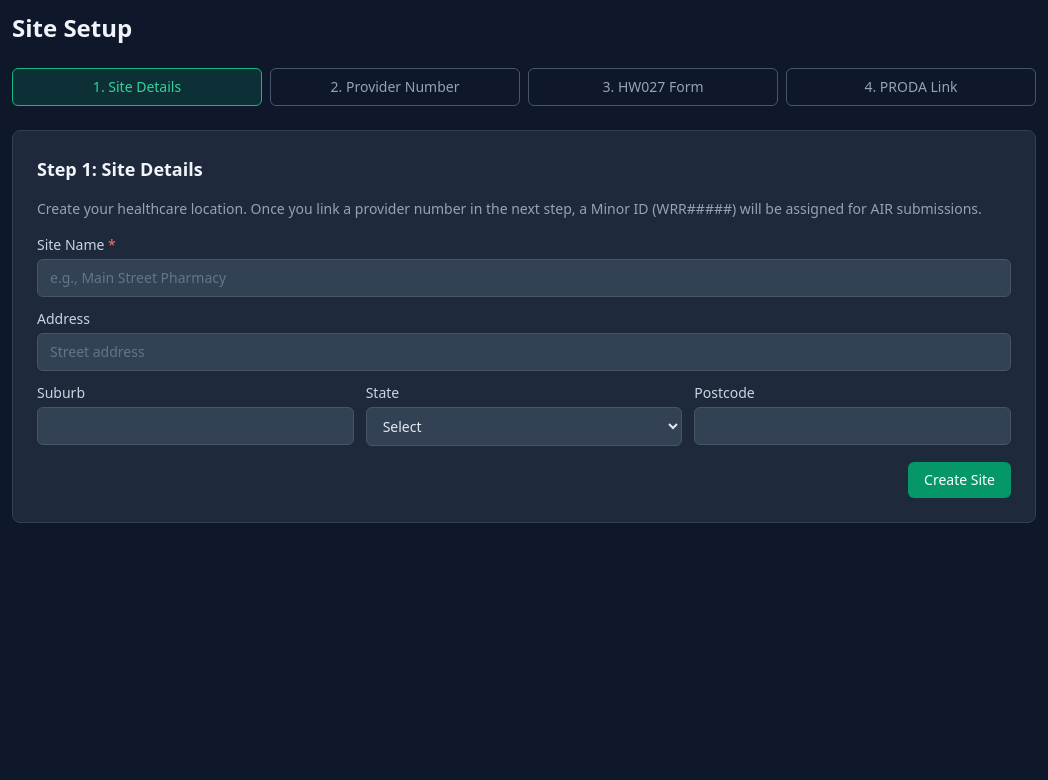
Scenario: SetupWizard › validates provider number length
Click the button "2. Provider Number".
click(395, 87)  # box top-left (270, 68), bottom-right (520, 106)
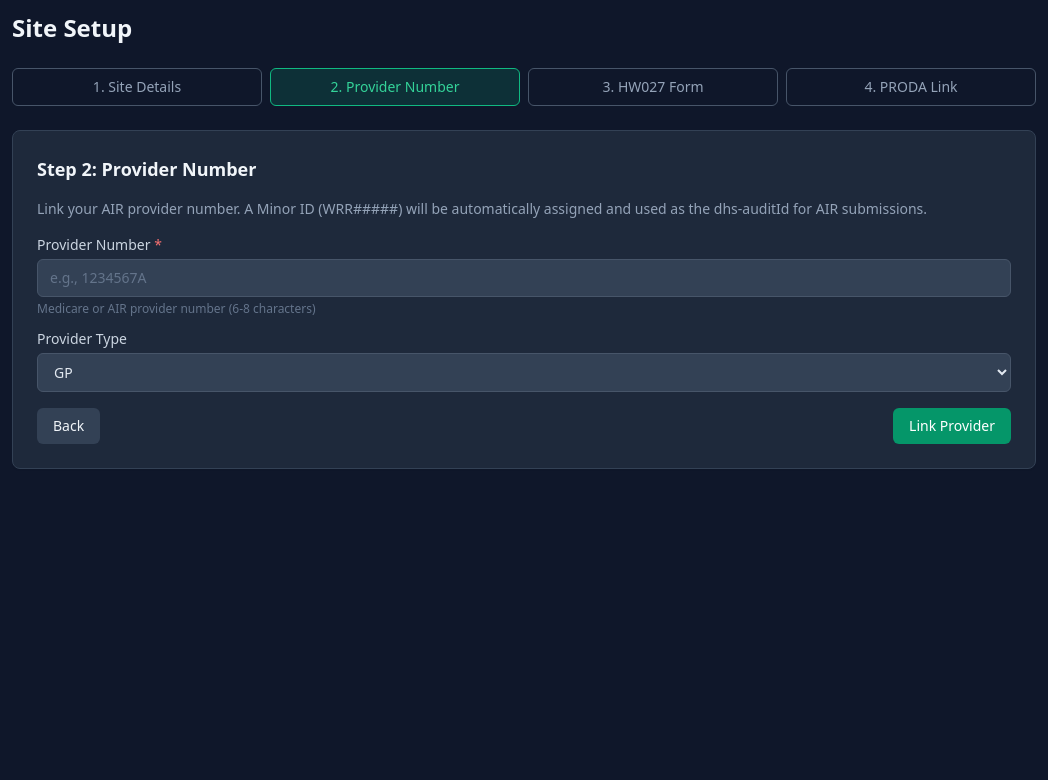
Type "123" into the field with test id "provider-number-input".
click(524, 278); type("123")  # box top-left (37, 259), bottom-right (1011, 297)
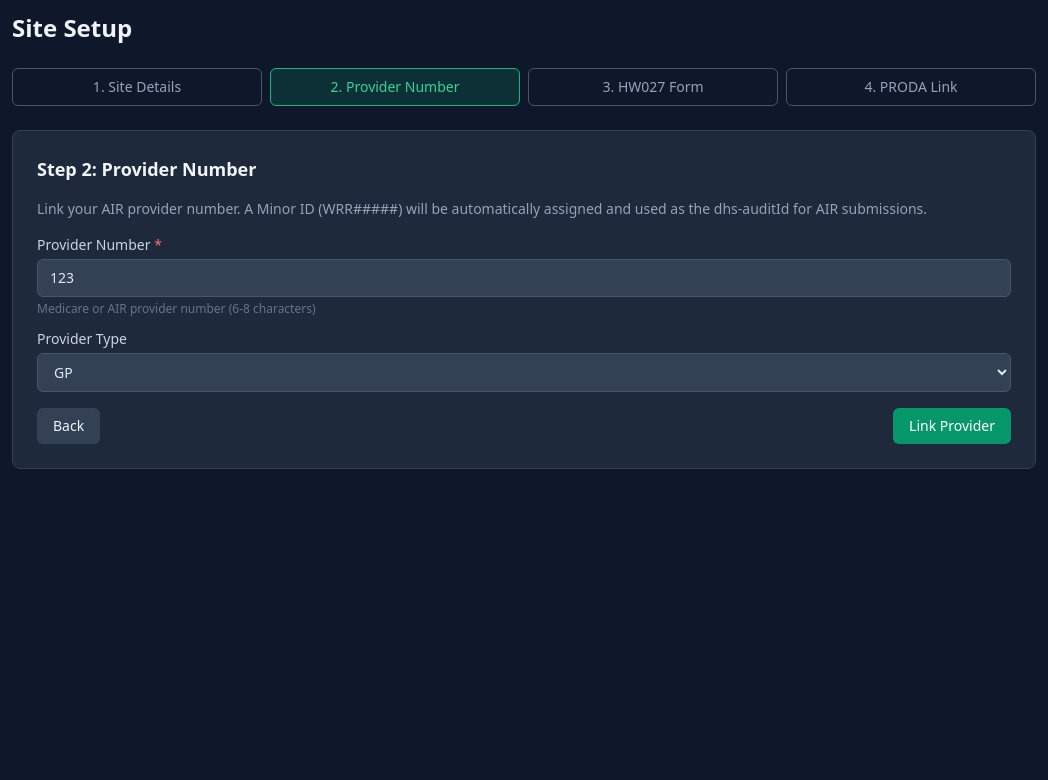
Click the button "Link Provider".
click(952, 426)  # box top-left (893, 408), bottom-right (1011, 444)
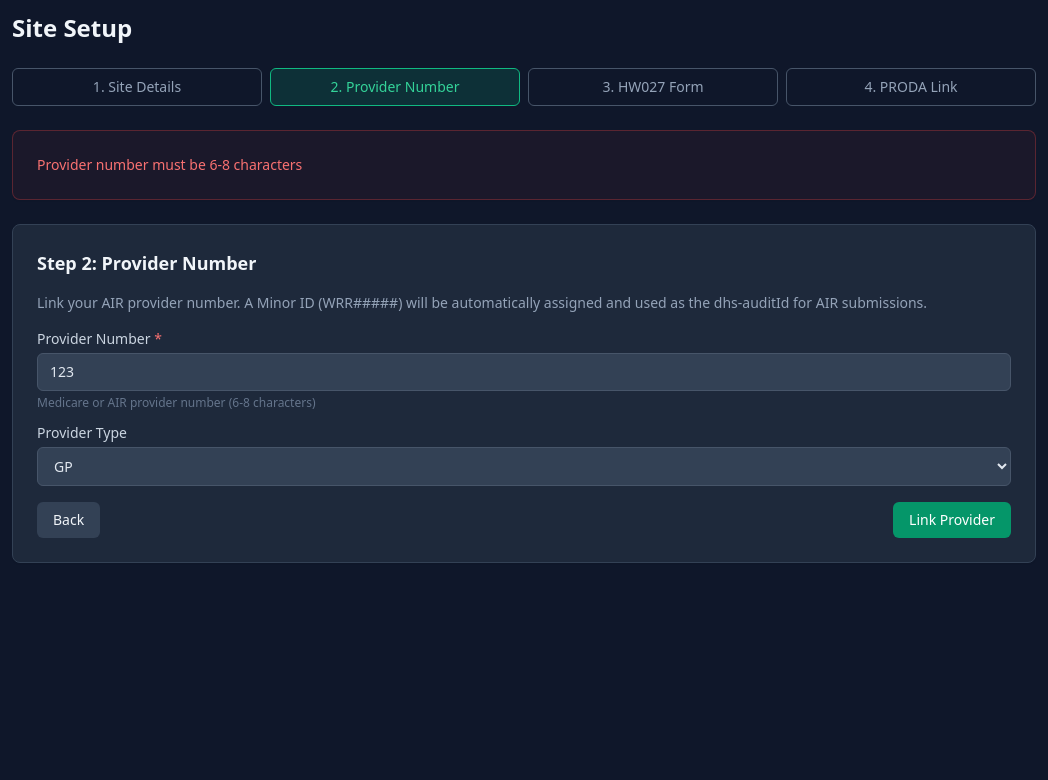
Expected: the text "Provider number must be 6-8 characters" is shown, top-left (37, 155), bottom-right (302, 174)
